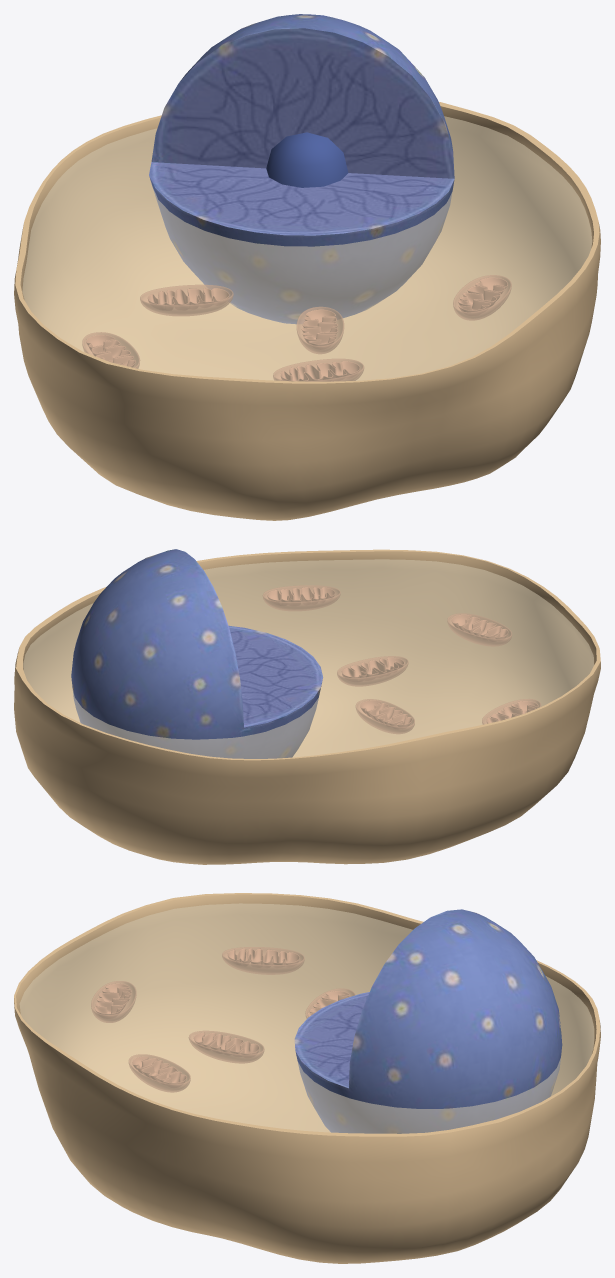
The picture shows the model from 3 angles, top to bottom: view 1: azimuth 30°, elevation 25°; view 2: azimuth 150°, elevation 25°; view 3: azimuth 270°, elevation 25°; orthographic projection. The views are drawn at different scales.
Parts seen in each view (by area): view 1: 对象005; view 2: 对象005; view 3: 对象005.
Boxes of the visible parts, box(x1,y1,x2,y2) form: 对象005: box(14, 14, 600, 520); 对象005: box(14, 549, 600, 864); 对象005: box(14, 893, 600, 1263).
Bounding box in the file's own units: 52.11 × 31.21 × 52.14.
2 materials, 2 textured.
